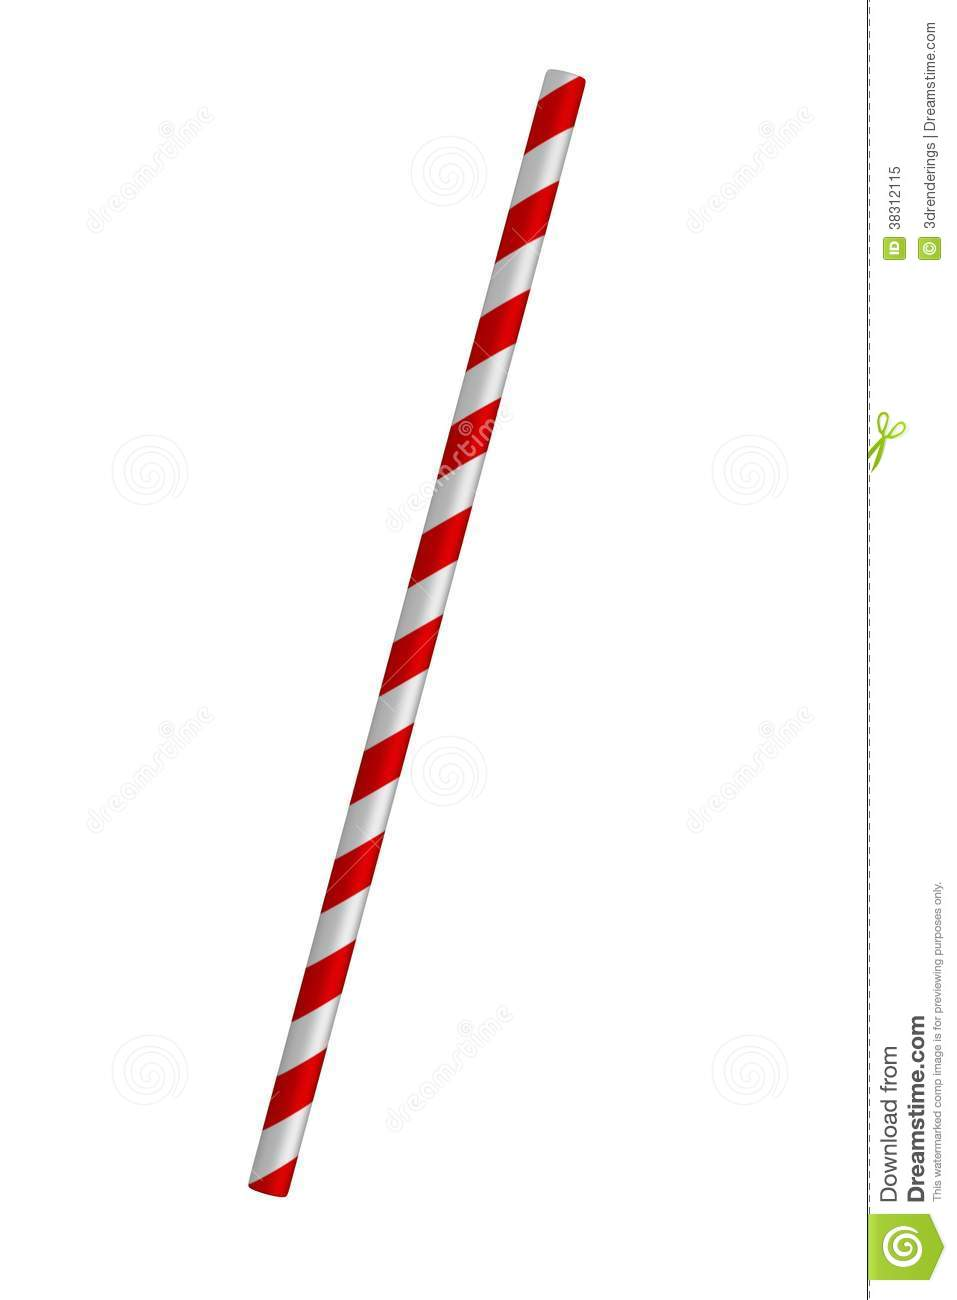Drinking Straw: (239, 65, 595, 1203)
